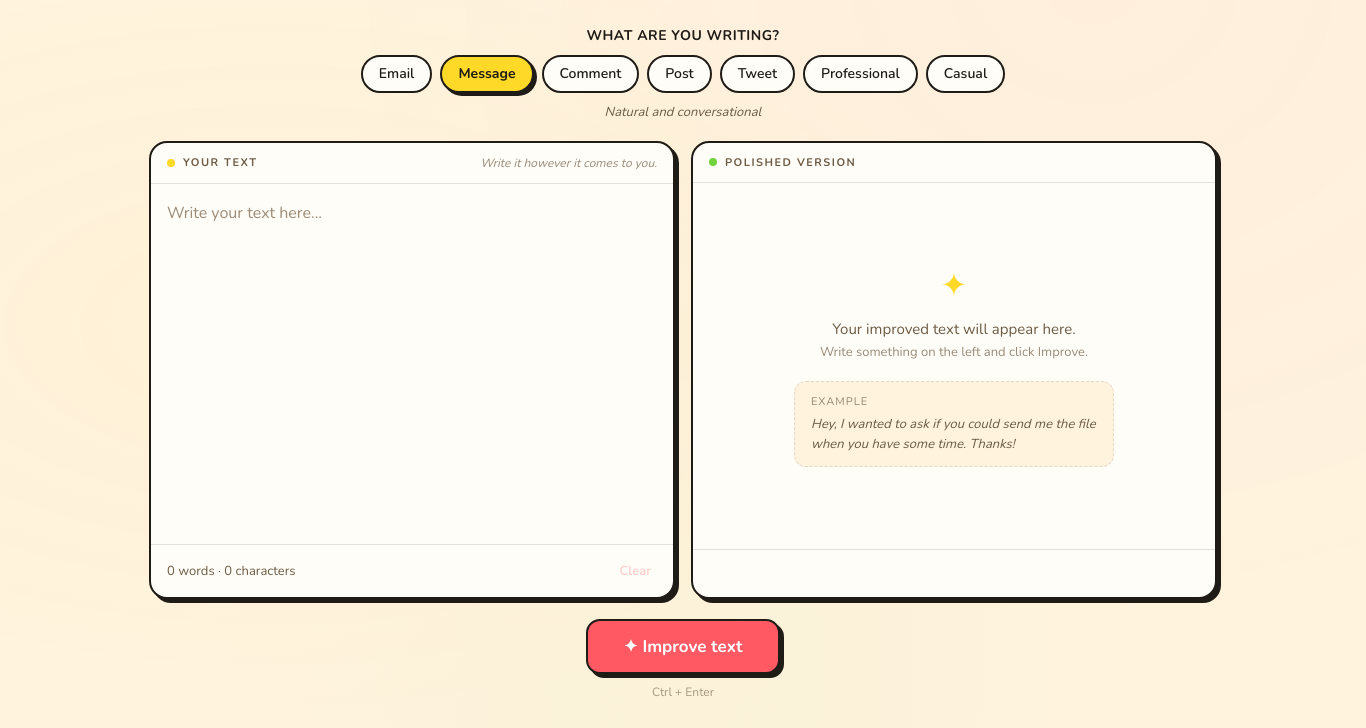
Test: Page Component › shows copy button after successful result
(page scrolled)
Type "rough text" into the text box with placeholder "Write your text here..." at (412, 364), box [151,184,673,544]
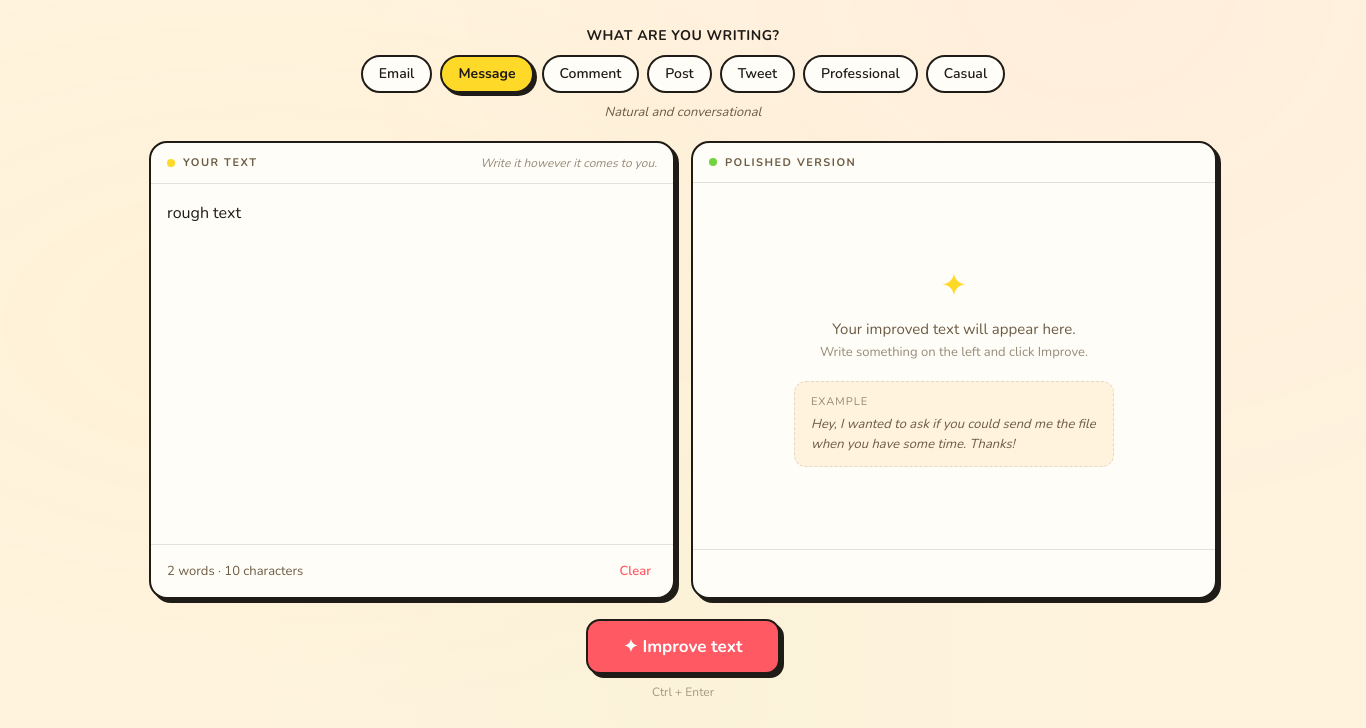
Click the button "✦ Improve text" at (683, 646), box [586,619,780,674]
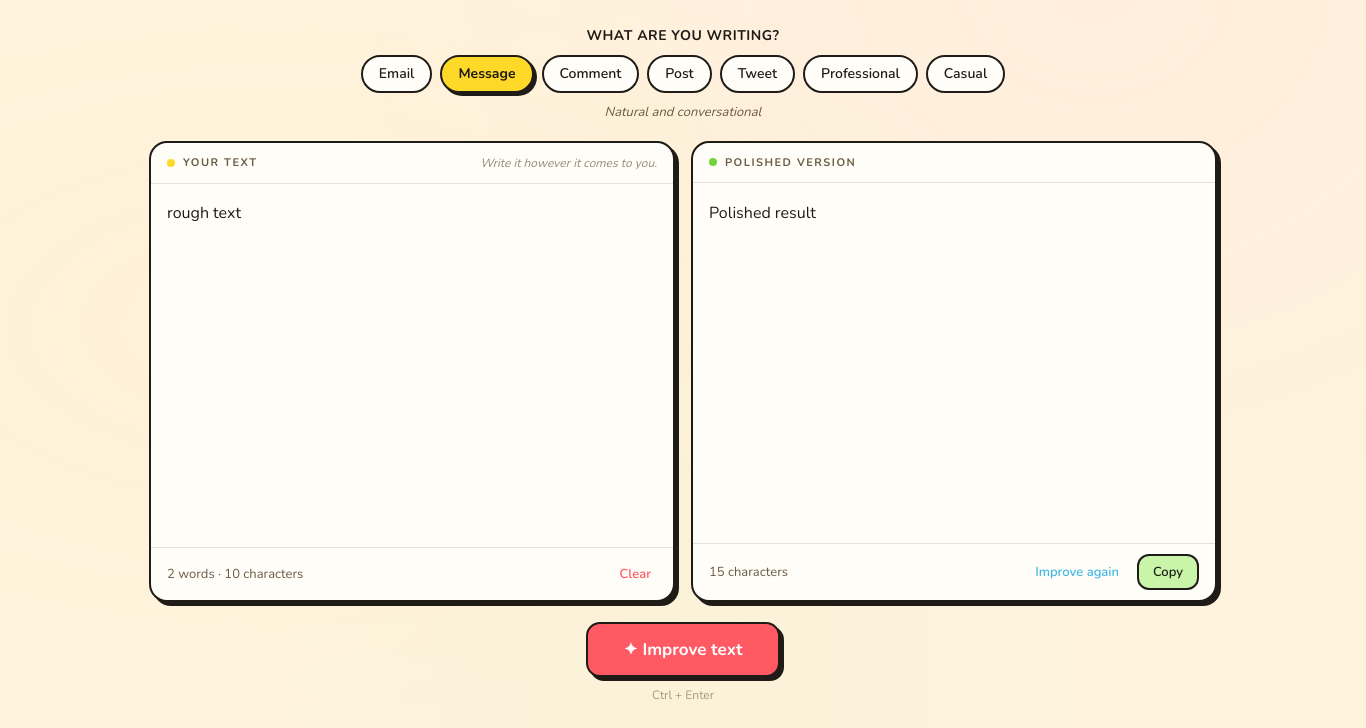
Result: the text "Polished result" is shown at [709,202,816,224]
Result: the button "Copy" is shown at [1137,554,1199,590]
